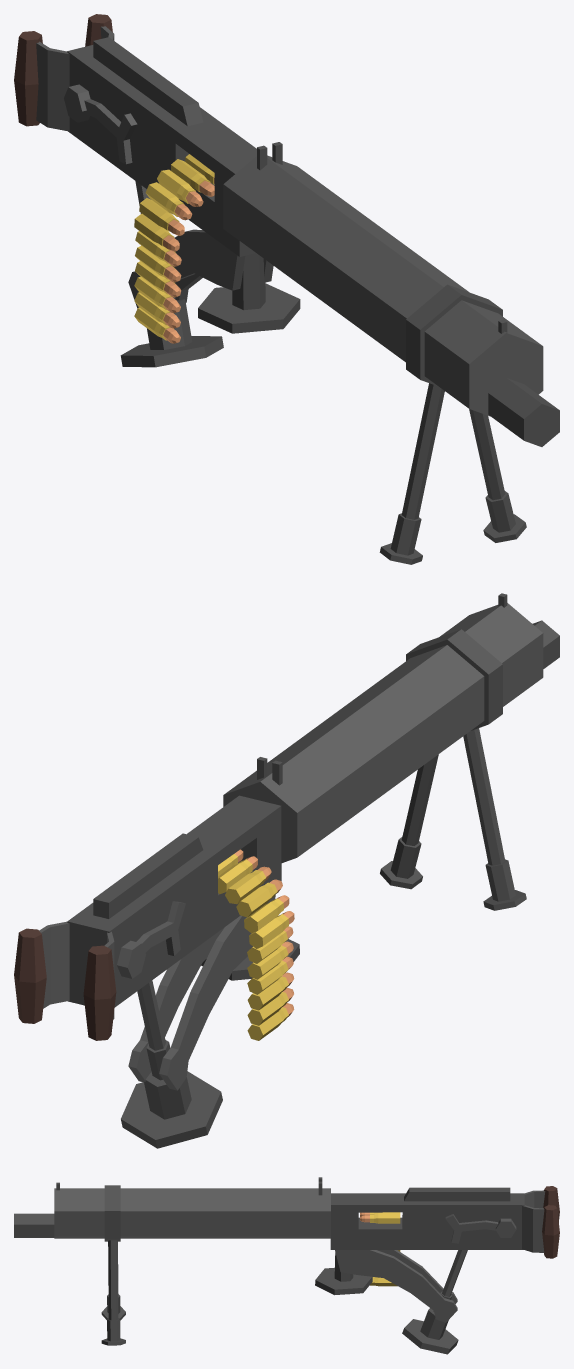
File: Machinegun.fbx
3 views of the same model, one above another, from view 1: azimuth 30°, elevation 25°; view 2: azimuth 150°, elevation 25°; view 3: azimuth 270°, elevation 25° (orthographic). The views are drawn at different scales.
Visible parts, largest first — view 1: MachineGun; view 2: MachineGun; view 3: MachineGun.
Boxes of the visible parts, bbox=[...] form: MachineGun: bbox=[14, 14, 559, 564]; MachineGun: bbox=[14, 593, 559, 1148]; MachineGun: bbox=[14, 1177, 559, 1354].
Bounding box in the file's own units: 258 × 538 × 1589.
